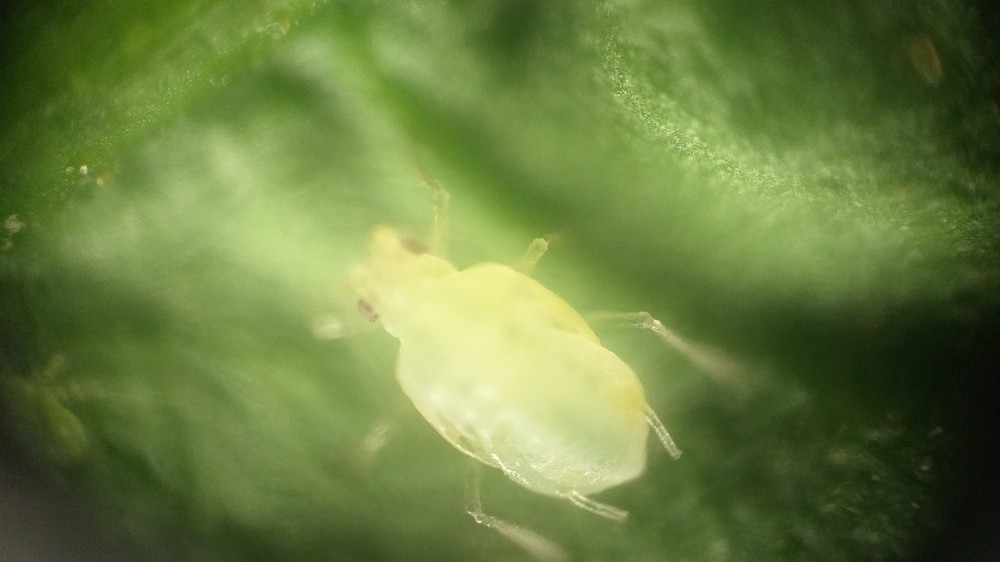Pulgon: (320, 150, 727, 557)
